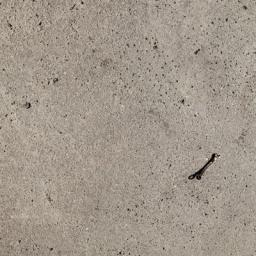FOD: (187, 145, 222, 186)
